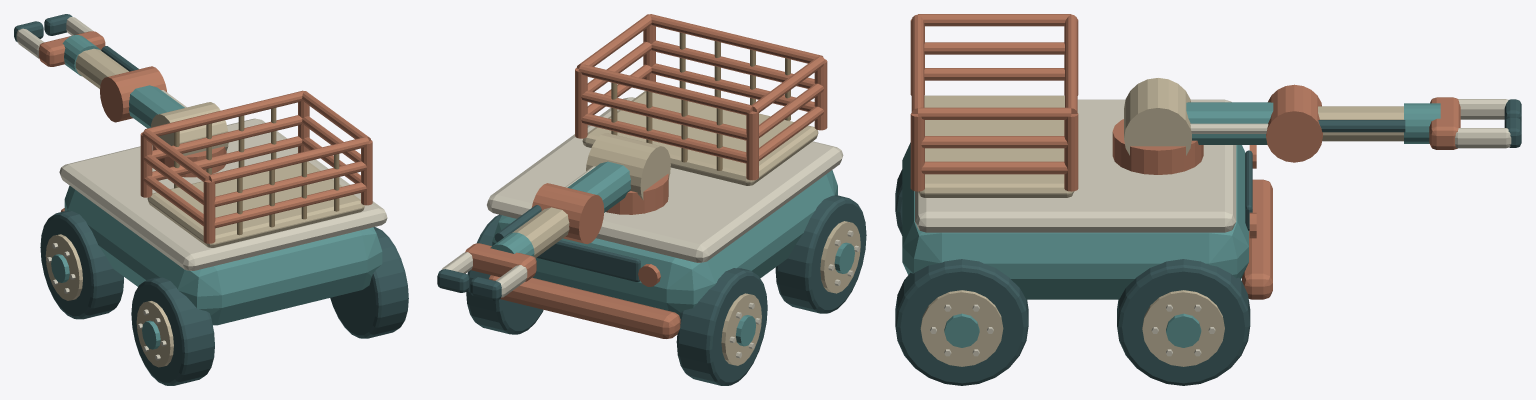
File: cart_model.glb
The picture shows the model from 3 angles, left to right: view 1: azimuth 30°, elevation 25°; view 2: azimuth 150°, elevation 25°; view 3: azimuth 270°, elevation 25°; orthographic projection. The views are drawn at different scales.
Parts seen in each view (by area): view 1: CartModel_surface, WheelLRear_surface, WheelLFront_surface, WheelRRear_surface, Elbow_surface, Shoulder_surface, Wrist_surface, LeftJaw_surface, RightJaw_surface; view 2: CartModel_surface, WheelLFront_surface, WheelLRear_surface, Shoulder_surface, Elbow_surface, WheelRFront_surface, Wrist_surface, LeftJaw_surface, RightJaw_surface; view 3: CartModel_surface, WheelRRear_surface, WheelRFront_surface, Shoulder_surface, Elbow_surface, Wrist_surface, RightJaw_surface, LeftJaw_surface.
Boxes of the visible parts, left/top/right/bottom form: CartModel_surface: left=59, top=90, right=387, bottom=325; WheelLRear_surface: left=131, top=277, right=214, bottom=385; WheelLFront_surface: left=40, top=210, right=123, bottom=319; WheelRRear_surface: left=330, top=227, right=408, bottom=338; Elbow_surface: left=75, top=46, right=167, bottom=122; Shoulder_surface: left=129, top=85, right=228, bottom=155; Wrist_surface: left=39, top=31, right=105, bottom=76; LeftJaw_surface: left=14, top=21, right=44, bottom=58; RightJaw_surface: left=44, top=14, right=93, bottom=35; CartModel_surface: left=487, top=14, right=843, bottom=338; WheelLFront_surface: left=676, top=268, right=767, bottom=385; WheelLRear_surface: left=775, top=195, right=866, bottom=313; Shoulder_surface: left=565, top=133, right=670, bottom=212; Elbow_surface: left=494, top=183, right=604, bottom=257; WheelRFront_surface: left=466, top=214, right=543, bottom=334; Wrist_surface: left=465, top=232, right=536, bottom=281; LeftJaw_surface: left=470, top=265, right=527, bottom=300; RightJaw_surface: left=437, top=252, right=472, bottom=292; CartModel_surface: left=902, top=14, right=1272, bottom=299; WheelRRear_surface: left=895, top=259, right=1028, bottom=385; WheelRFront_surface: left=1117, top=259, right=1250, bottom=385; Shoulder_surface: left=1124, top=78, right=1273, bottom=155; Elbow_surface: left=1266, top=84, right=1405, bottom=162; Wrist_surface: left=1404, top=97, right=1460, bottom=149; RightJaw_surface: left=1455, top=117, right=1521, bottom=148; LeftJaw_surface: left=1458, top=99, right=1521, bottom=122.
Bounding box in the file's own units: 1.2 × 1.01 × 2.2.
